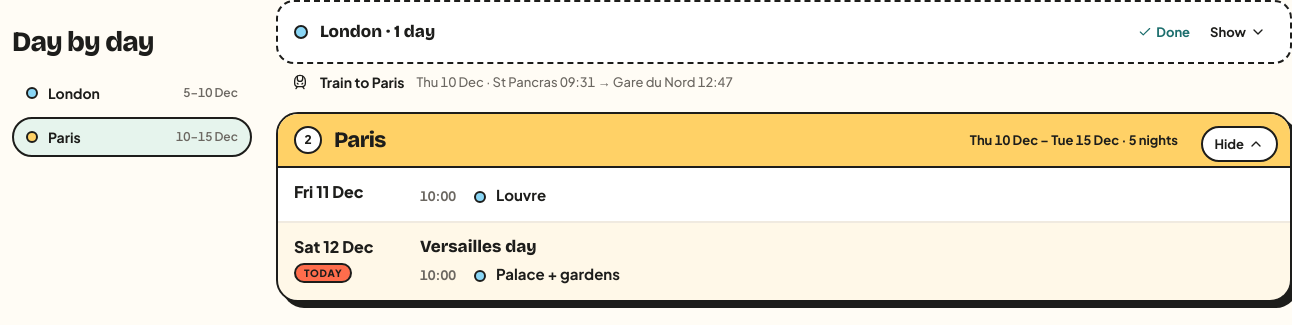
it: DayByDay (SHARE.md §7) › Hide folds the open stop
The width and height of the screenshot is (1292, 325).
Click the button "Hide". click: (1239,144)
box: [1200, 126, 1278, 162]
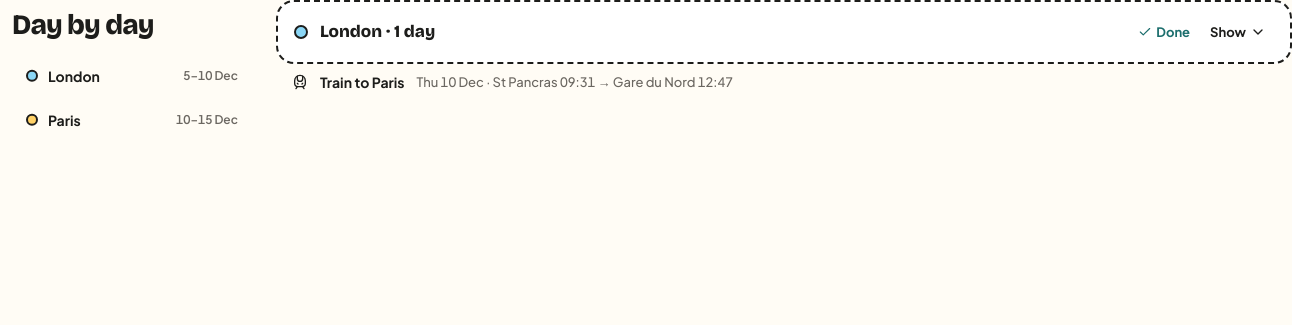
Check: no list items with test id "share-day" are shown
